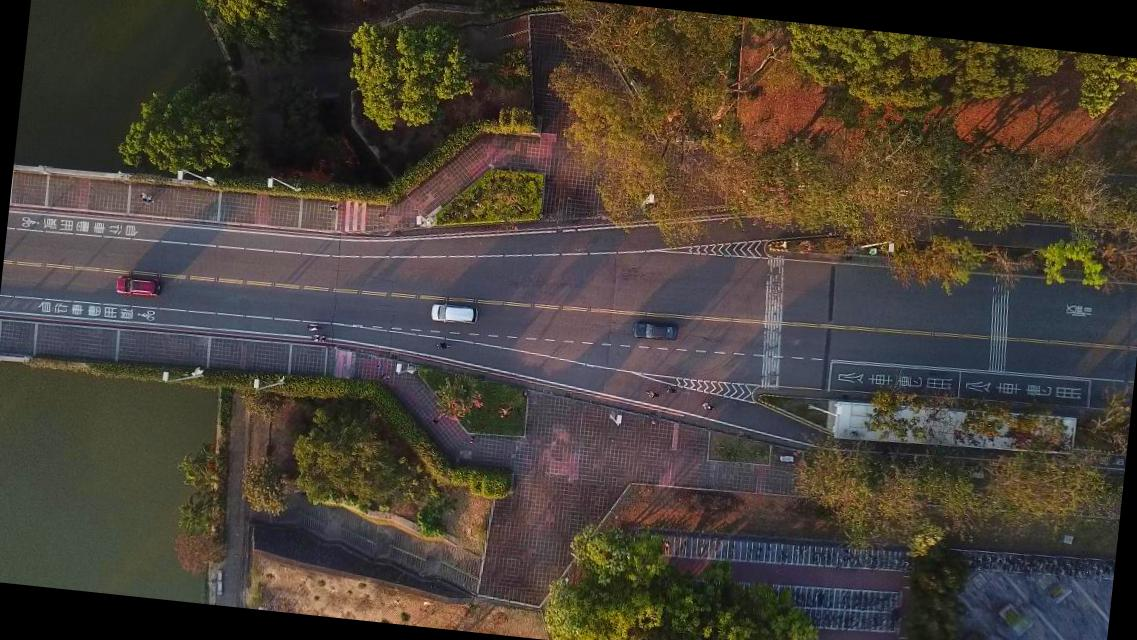vehicle: (430, 300, 479, 326), (114, 274, 162, 298), (632, 319, 678, 342)
